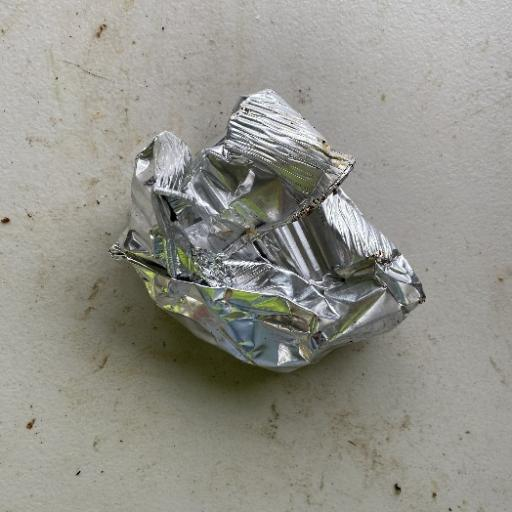Metal: (107, 86, 427, 373)
